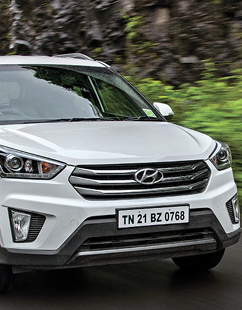TN21BZ0768: (117, 204, 190, 229)
